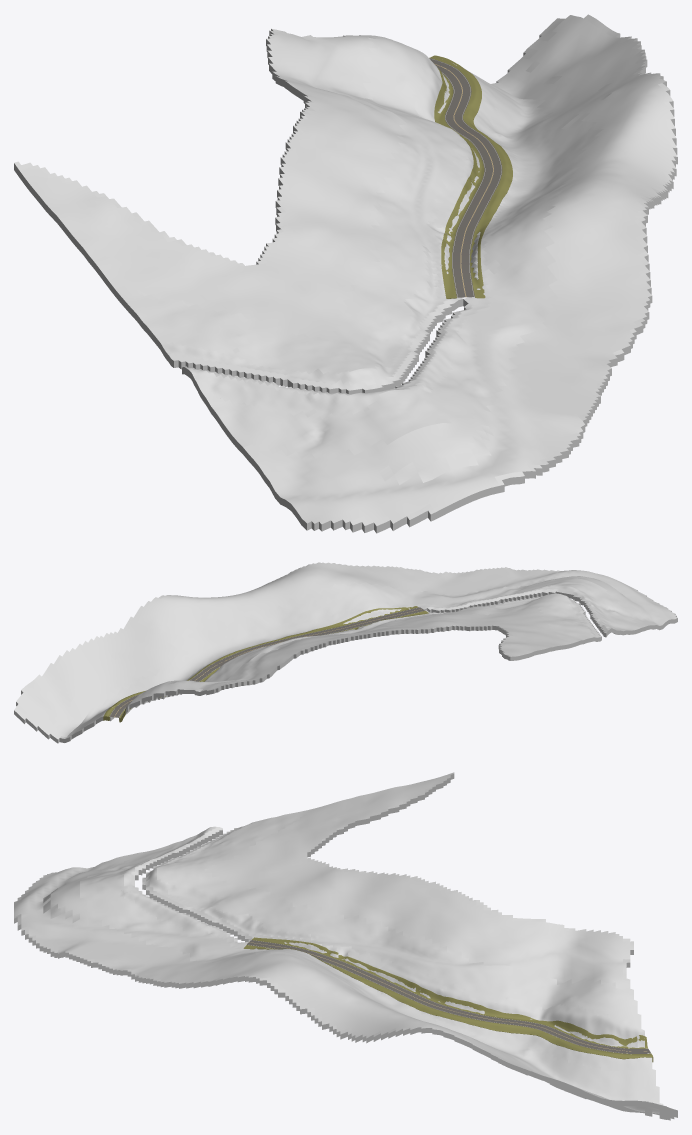
File: conz_182.glb
3 renders of one model, top to bottom at view 1: azimuth 30°, elevation 25°; view 2: azimuth 150°, elevation 25°; view 3: azimuth 270°, elevation 25°, orthographic. The views are drawn at different scales.
Parts seen in each view (by area): view 1: terrain182, road182, verge182L, verge182R; view 2: terrain182, road182, verge182L; view 3: terrain182, verge182R, road182, verge182L.
Boxes of the visible parts, x1,y1,x2,y2 form: terrain182: (14,14,677,533); road182: (429,58,502,297); verge182L: (429,55,512,298); verge182R: (434,67,484,298); terrain182: (14,562,677,743); road182: (109,607,425,717); verge182L: (103,606,418,720); terrain182: (14,772,677,1120); verge182R: (252,937,647,1048); road182: (247,940,650,1053); verge182L: (243,945,653,1062).
Size of the model in its own units: 310 by 80.57 by 362.
